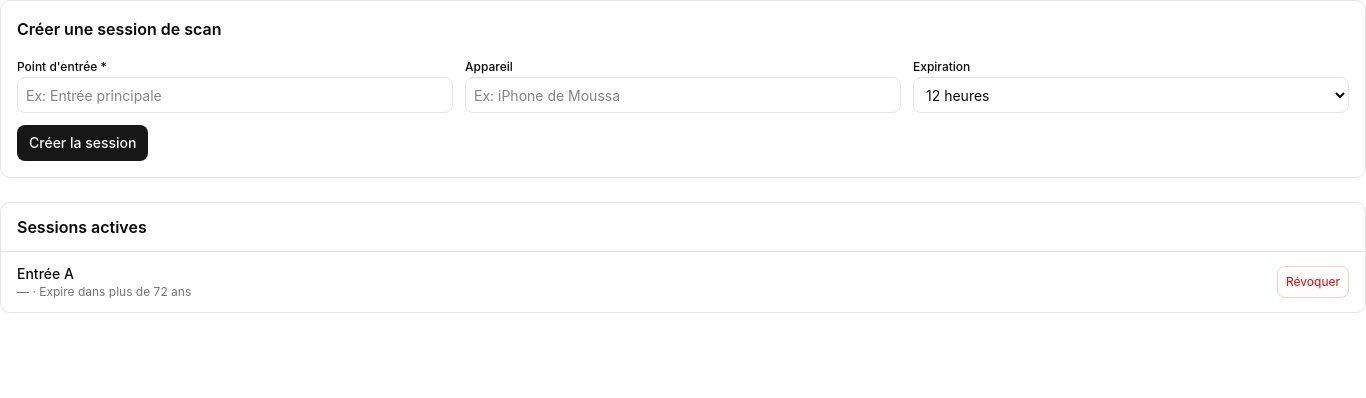
ScanSessionManager › shows a revoke error banner when revocation fails
Click the button "Révoquer". click: (1313, 282)
box: [1277, 266, 1349, 298]
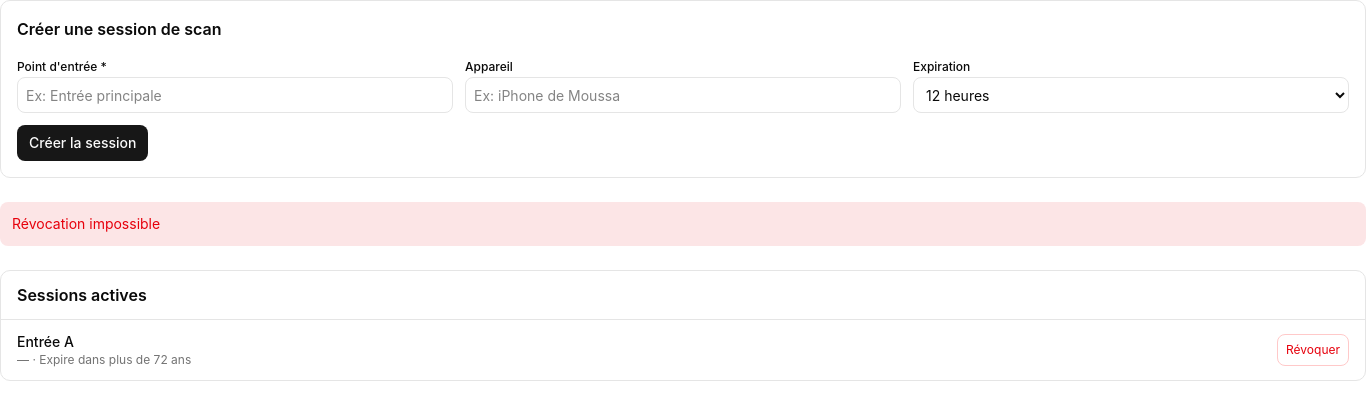
Now the text "Révocation impossible" is shown, box [0, 202, 1365, 246]
